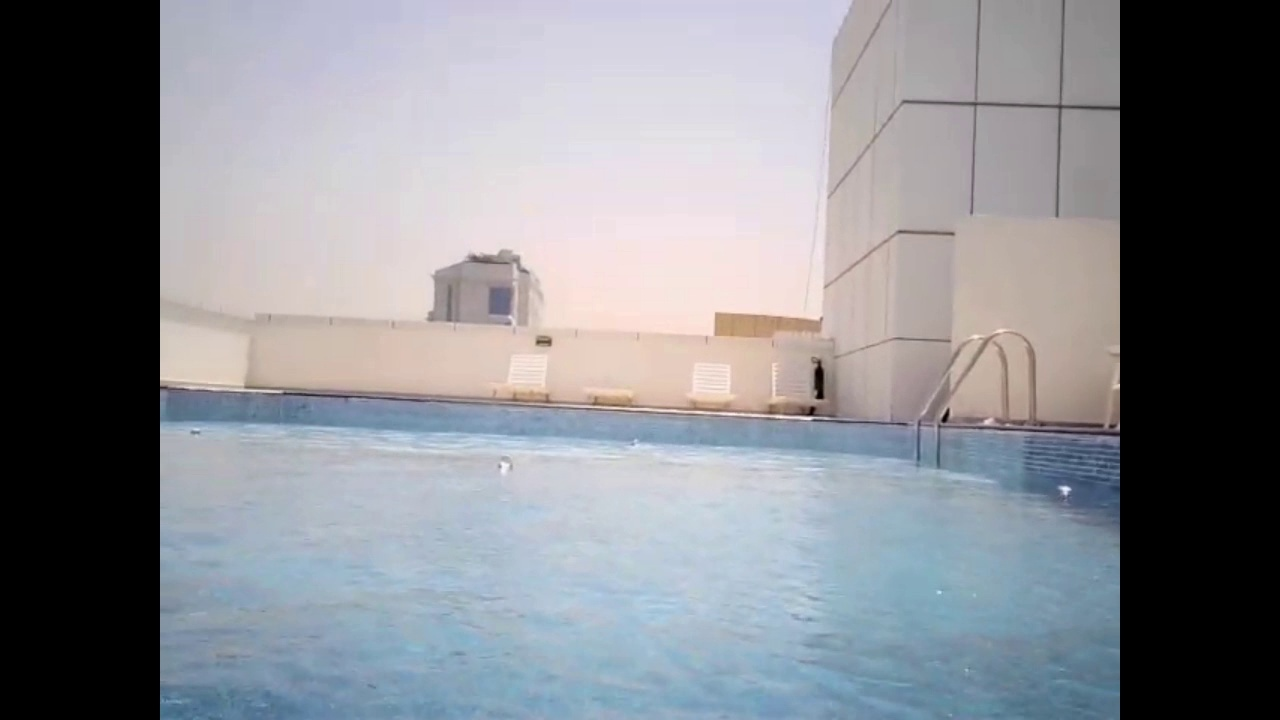debris: (1052, 480, 1074, 503), (492, 452, 513, 473), (626, 433, 642, 450), (188, 426, 202, 442)
